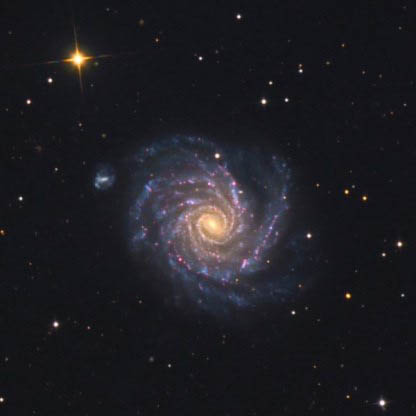NGC 1232: (84, 124, 335, 330)
